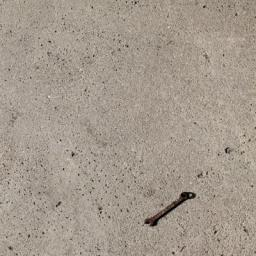FOD: (142, 185, 199, 229)
